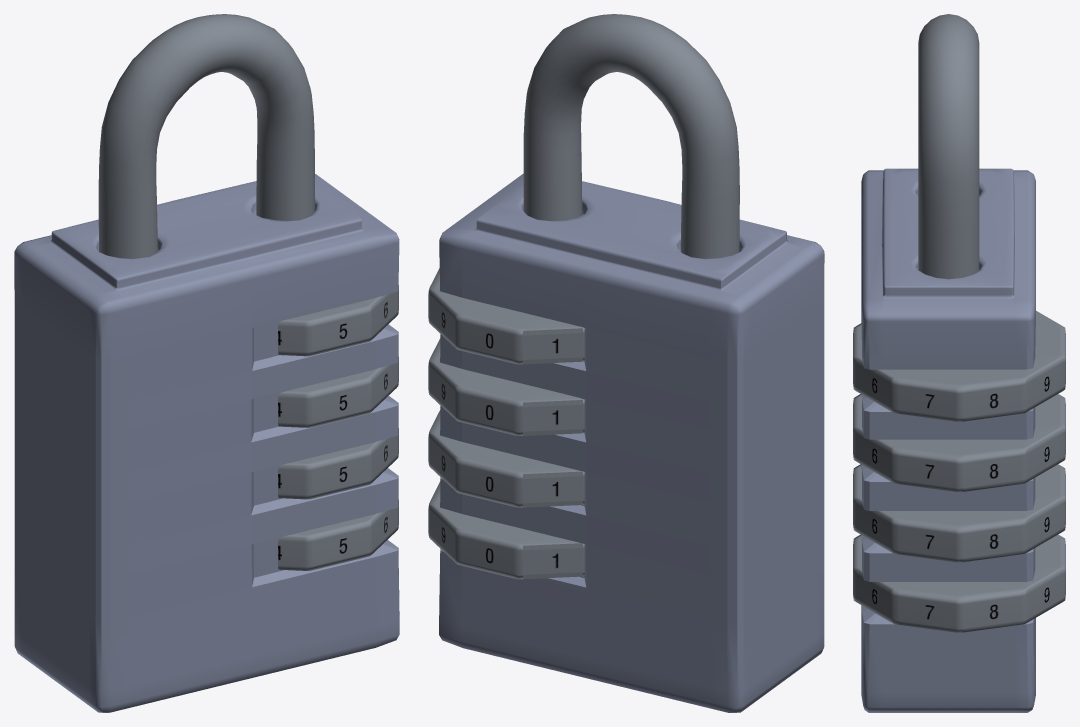
Rendered from lock4.fbx.
The picture shows the model from 3 angles, left to right: view 1: azimuth 30°, elevation 25°; view 2: azimuth 150°, elevation 25°; view 3: azimuth 270°, elevation 25°; orthographic projection.
Parts seen in each view (by area): view 1: lock4_body1, lock4_dial1, lock4_dial4, lock4_dial2, lock4_dial3; view 2: lock4_body1, lock4_dial1, lock4_dial4, lock4_dial2, lock4_dial3; view 3: lock4_body1, lock4_dial4, lock4_dial1, lock4_dial2, lock4_dial3.
Boxes of the visible parts, <box> form: lock4_body1: <box>14,14,399,712</box>; lock4_dial1: <box>278,357,398,427</box>; lock4_dial4: <box>278,285,398,356</box>; lock4_dial2: <box>278,428,398,499</box>; lock4_dial3: <box>278,500,398,570</box>; lock4_body1: <box>439,14,824,712</box>; lock4_dial1: <box>428,338,584,435</box>; lock4_dial4: <box>428,268,584,364</box>; lock4_dial2: <box>428,410,584,507</box>; lock4_dial3: <box>428,481,584,579</box>; lock4_body1: <box>861,14,1035,712</box>; lock4_dial4: <box>853,311,1065,421</box>; lock4_dial1: <box>853,394,1065,492</box>; lock4_dial2: <box>853,464,1065,562</box>; lock4_dial3: <box>853,534,1065,632</box>.
Size of the model in its own units: 3.8 by 6.84 by 2.13.
Materials: 2 (1 with a texture image).
